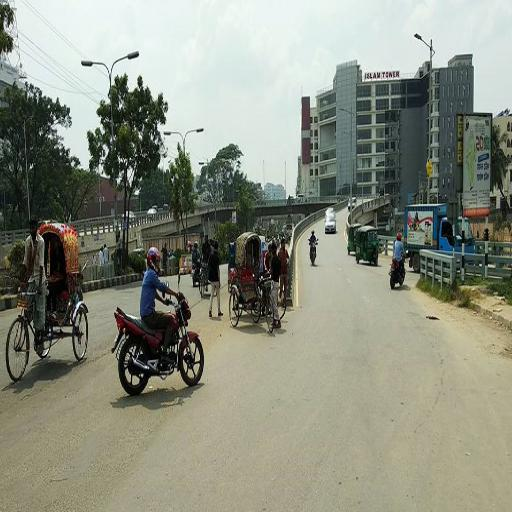motorbike: (111, 245, 206, 406), (387, 232, 410, 292), (306, 228, 319, 268)
pickup: (403, 200, 477, 273)
rickshaw: (6, 209, 91, 389), (227, 224, 279, 338)
three wheelers (CNG): (354, 225, 381, 267)
